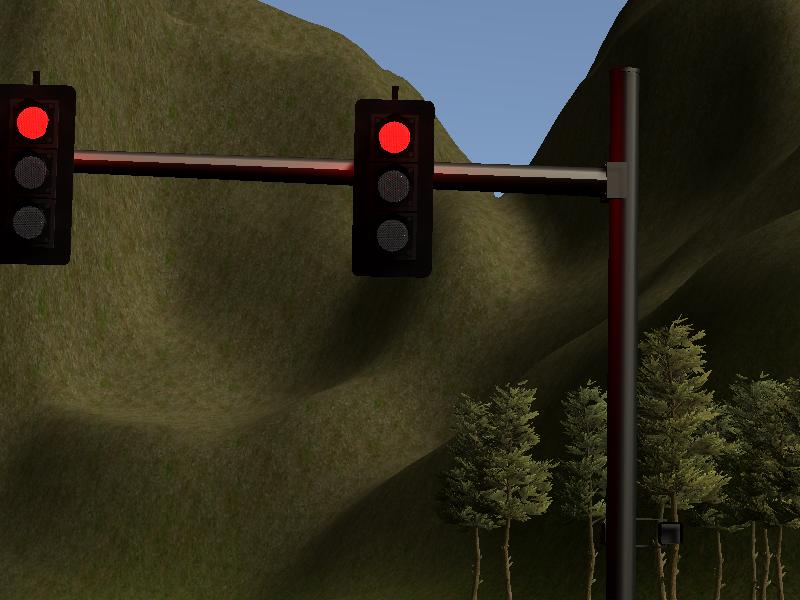Red: (353, 98, 429, 275), (1, 87, 74, 263)
